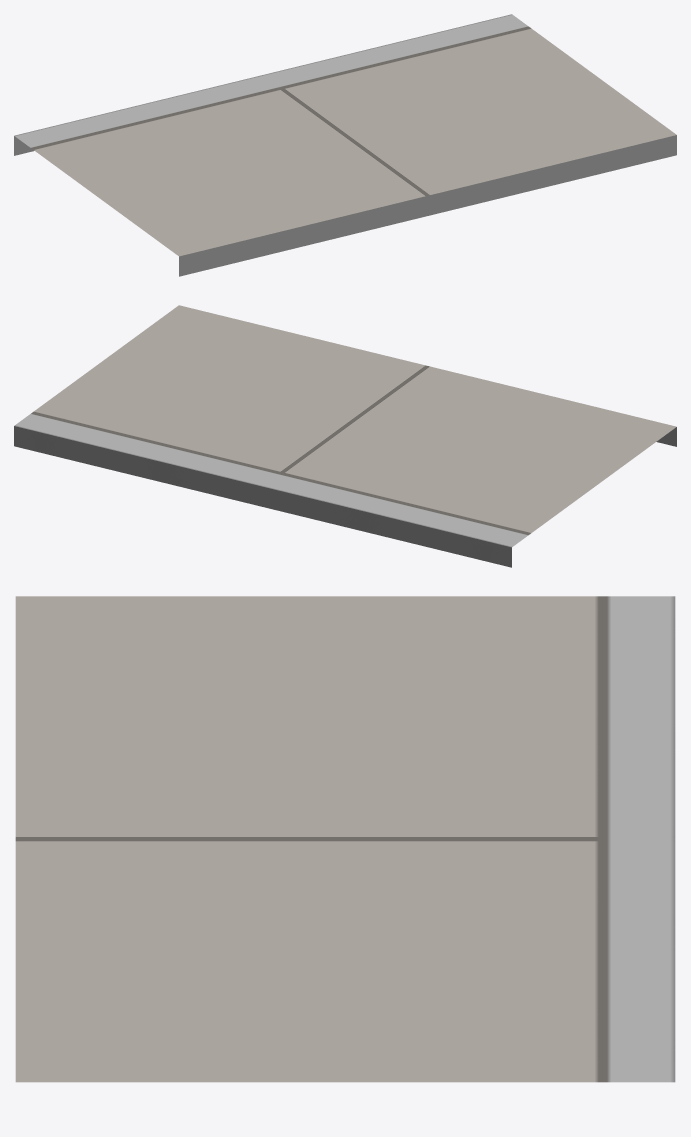
Rendered from sidewalk_only.fbx.
The picture shows the model from 3 angles, top to bottom: view 1: azimuth 30°, elevation 25°; view 2: azimuth 150°, elevation 25°; view 3: azimuth 270°, elevation 25°; orthographic projection. The views are drawn at different scales.
Visible parts, largest first — view 1: road_straight_clear_mesh; view 2: road_straight_clear_mesh; view 3: road_straight_clear_mesh.
Part boxes in pixels (x1,y1,x2,y2): road_straight_clear_mesh: (14, 14, 676, 276); road_straight_clear_mesh: (14, 305, 676, 567); road_straight_clear_mesh: (15, 596, 675, 1082).
Size of the model in its own units: 5 by 0.1948 by 2.87.
1 material, 1 textured.
